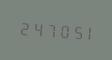five: (66, 20, 77, 41)
four: (29, 18, 40, 38)
one: (78, 21, 89, 42)
seven: (42, 19, 53, 39)
two: (17, 17, 28, 38)
zero: (54, 19, 65, 40)
